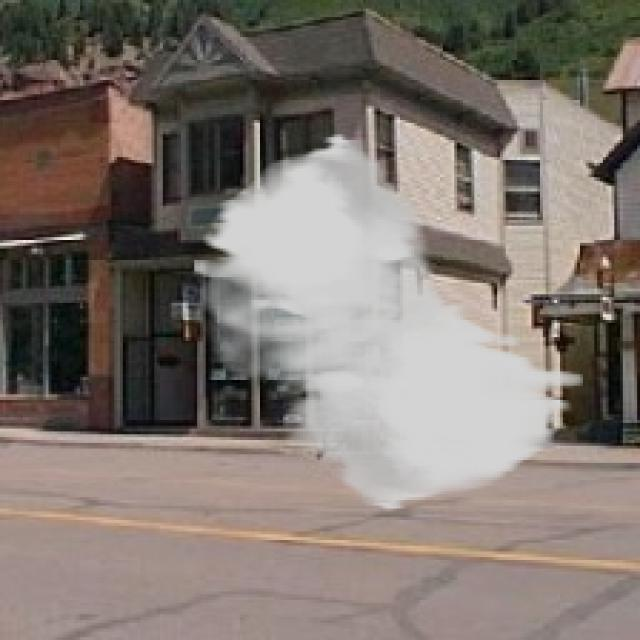Smoke: (191, 132, 583, 512)
